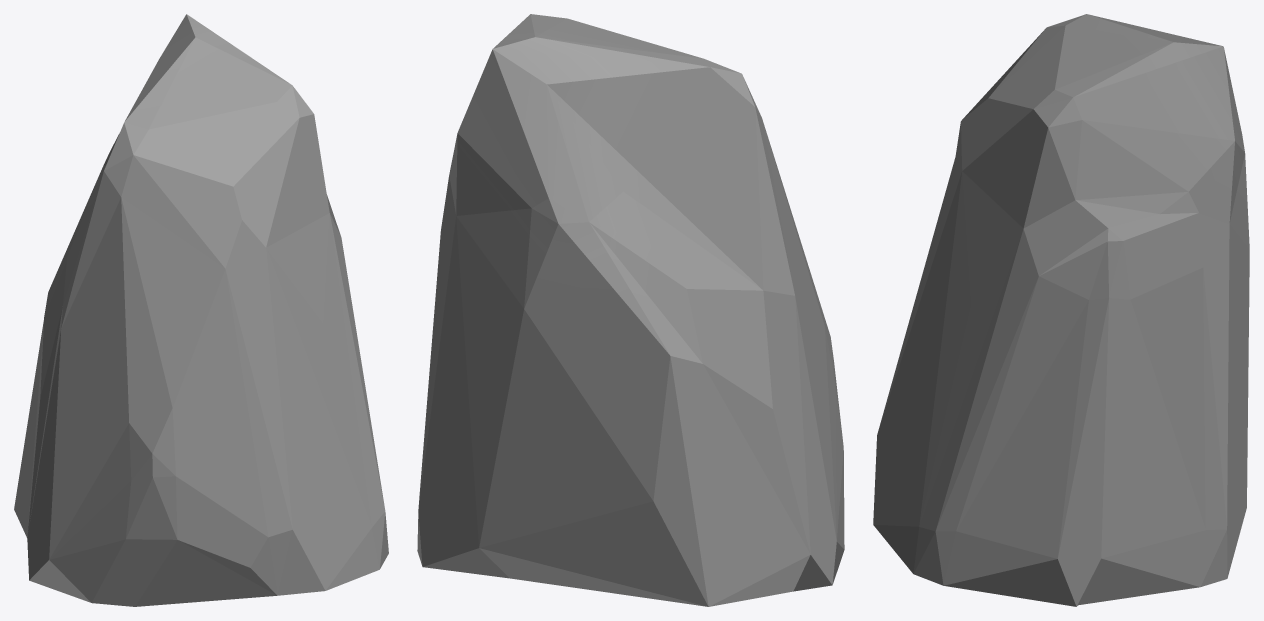
The model's file is Rock_038.fbx.
3 views of the same model, side by side, from view 1: azimuth 30°, elevation 25°; view 2: azimuth 150°, elevation 25°; view 3: azimuth 270°, elevation 25° (orthographic). The views are drawn at different scales.
Visible parts, largest first — view 1: Rock_038; view 2: Rock_038; view 3: Rock_038.
Boxes of the visible parts, x1,y1,x2,y2 form: Rock_038: (14, 14, 388, 606); Rock_038: (417, 14, 844, 606); Rock_038: (873, 14, 1249, 606).
Bounding box in the file's own units: 215 × 188 × 279.
Materials: 1 (1 with a texture image).
